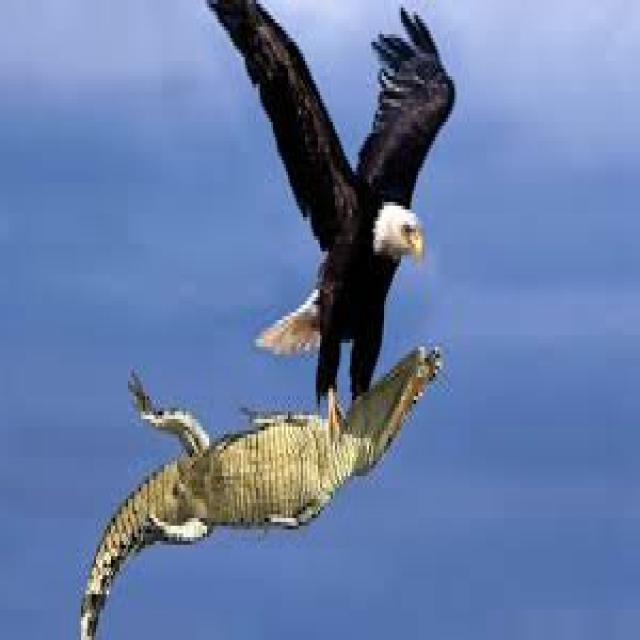eagle: (209, 0, 457, 419)
